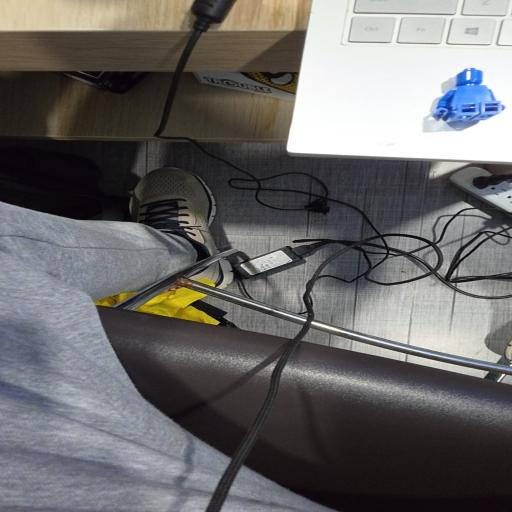Blue: (433, 68, 505, 127)
